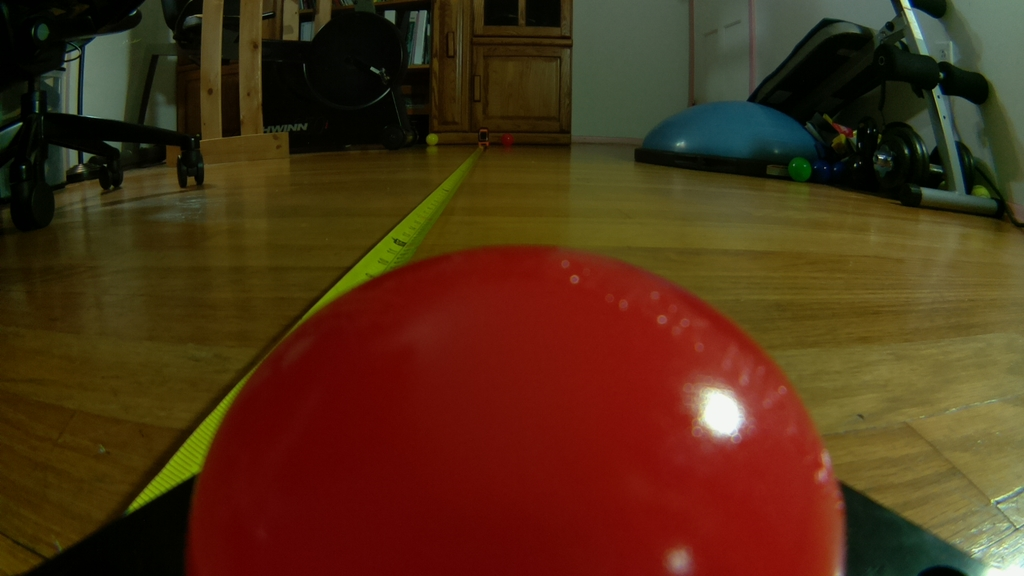ball: (186, 244, 852, 576)
